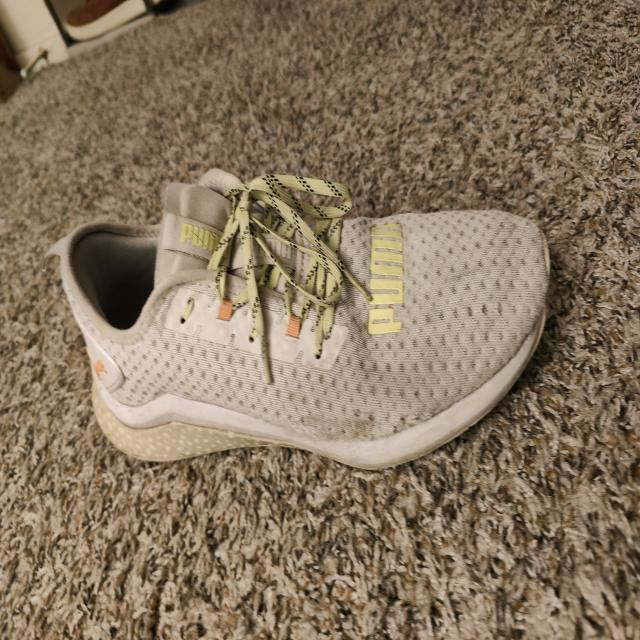white shoes: (68, 180, 554, 470)
